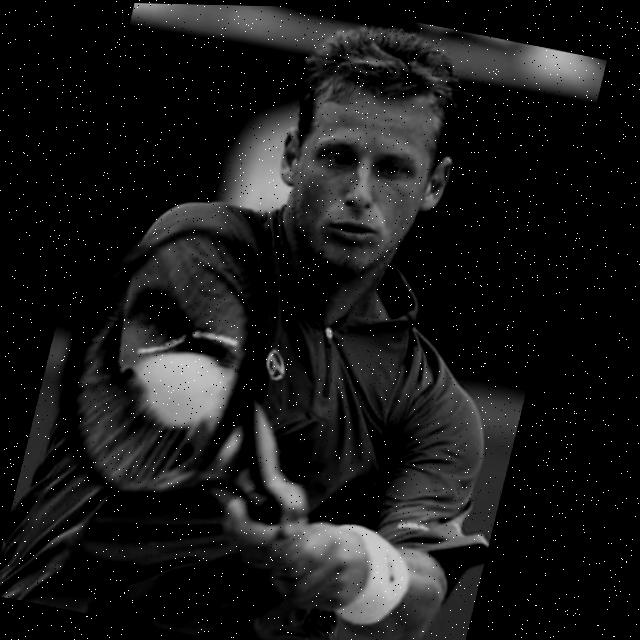face: (269, 68, 459, 292)
